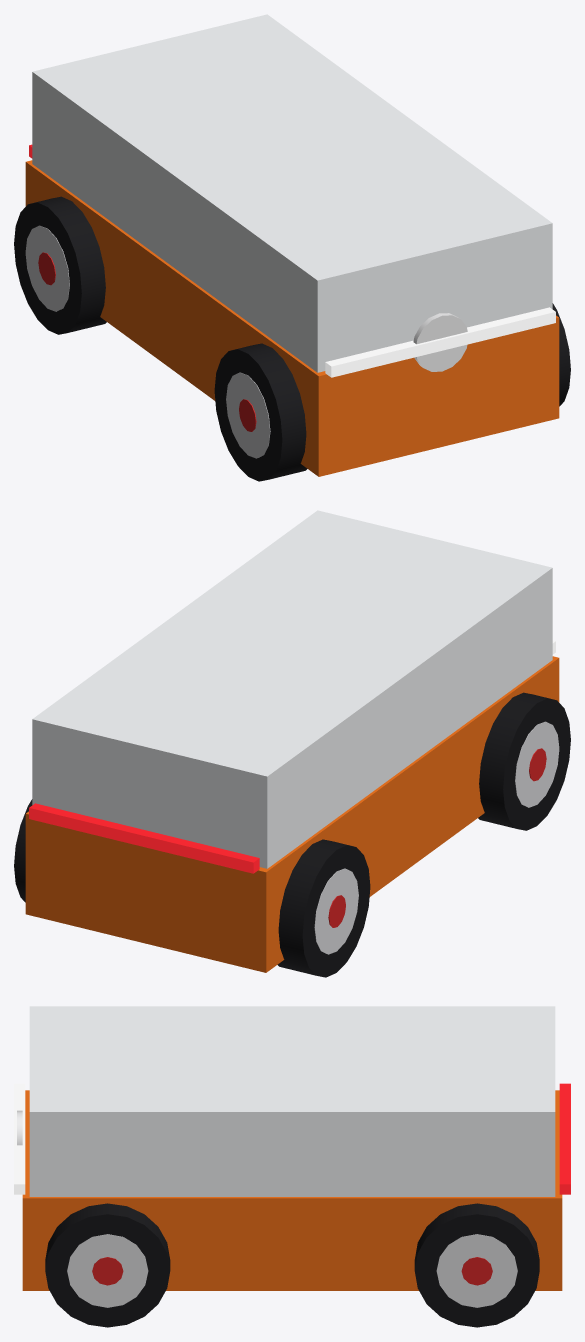
The model's file is vw_idbuzz.glb.
The picture shows the model from 3 angles, top to bottom: view 1: azimuth 30°, elevation 25°; view 2: azimuth 150°, elevation 25°; view 3: azimuth 270°, elevation 25°; orthographic projection. The views are drawn at different scales.
Bounding box in the file's own units: 0.5553 × 0.4031 × 1.
